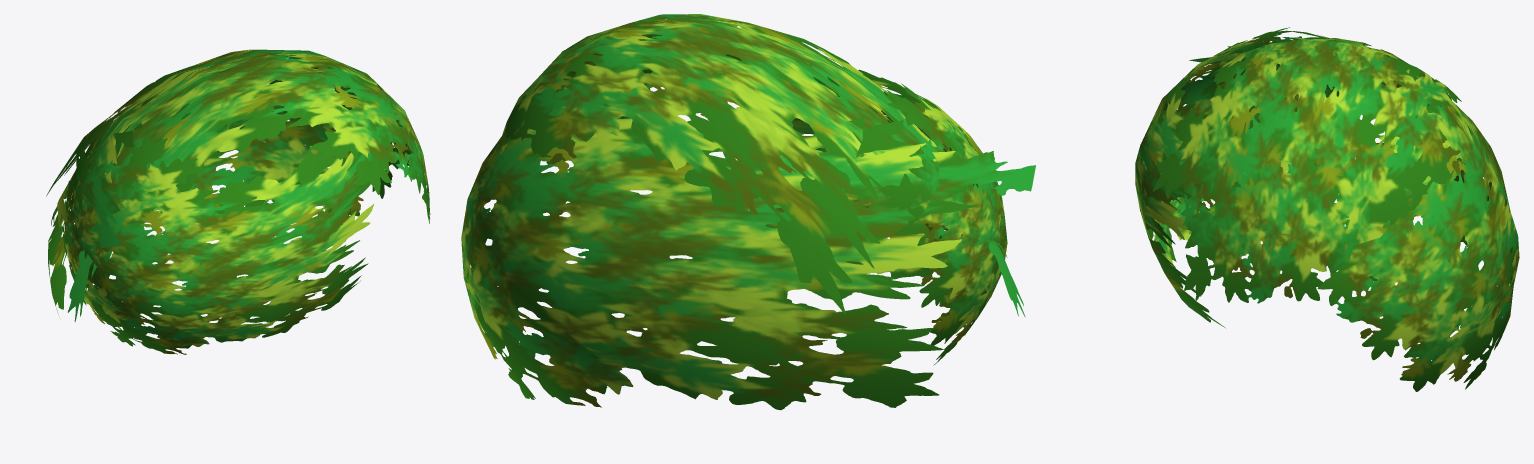
File: bush final.fbx
The picture shows the model from 3 angles, left to right: view 1: azimuth 30°, elevation 25°; view 2: azimuth 150°, elevation 25°; view 3: azimuth 270°, elevation 25°; orthographic projection. The views are drawn at different scales.
Visible parts, largest first — view 1: polySurface5; view 2: polySurface5; view 3: polySurface5.
Boxes of the visible parts, bbox=[...] form: polySurface5: bbox=[46, 49, 430, 354]; polySurface5: bbox=[461, 14, 1035, 410]; polySurface5: bbox=[1135, 27, 1519, 391].
Bounding box in the file's own units: 7.7 × 5.68 × 6.8.
Materials: 3 (3 with a texture image).
